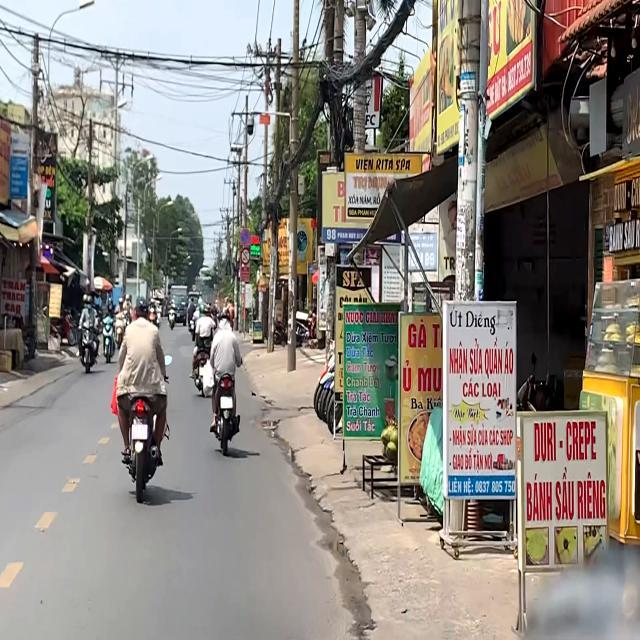P-131a: (241, 228, 251, 245)
